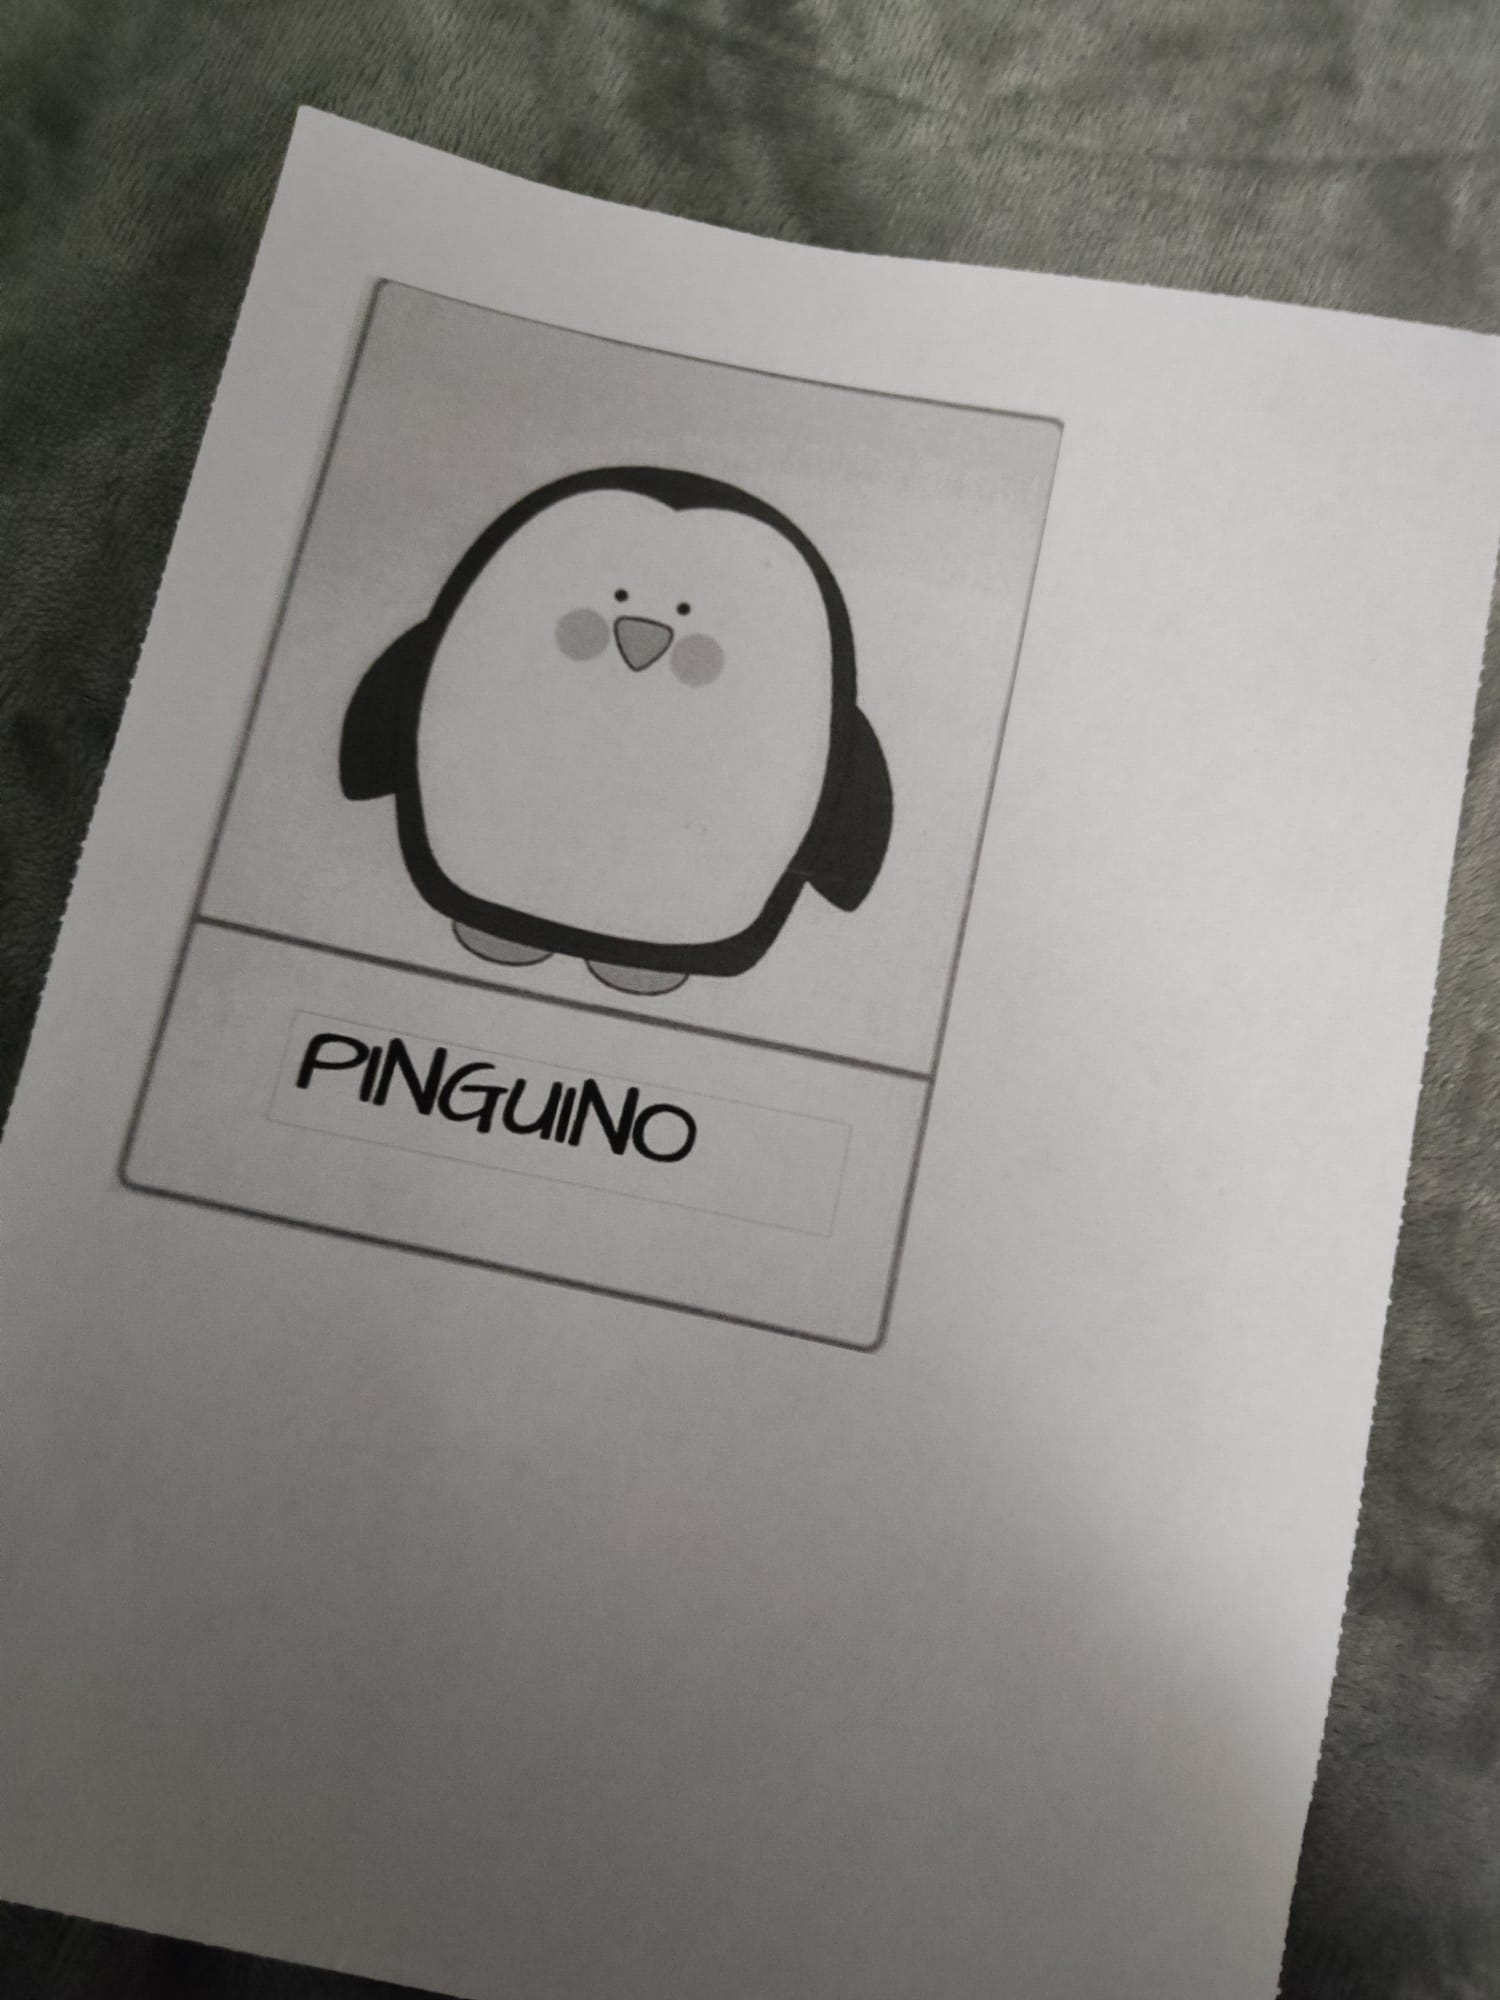pinguino: (302, 291, 931, 1291)
